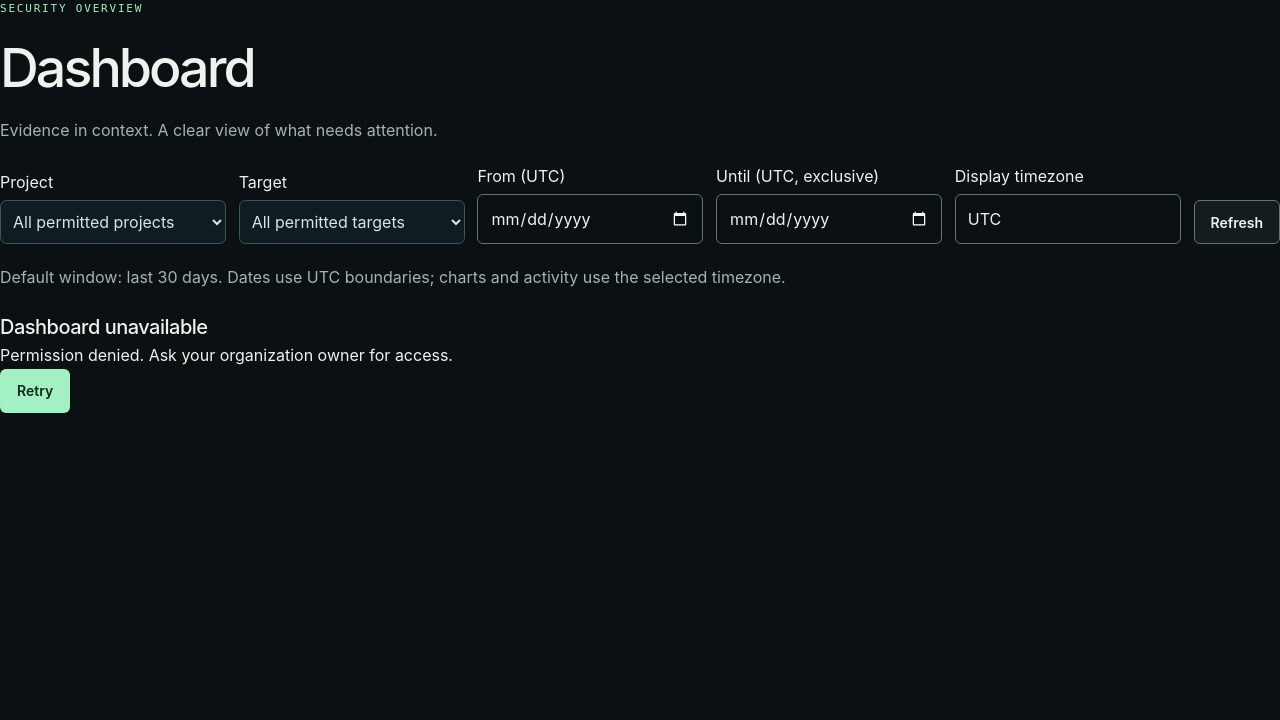
Test case: retries errors and communicates permission denial
Expected: the text "Permission denied. Ask your organization owner for access." is shown, [0,344,453,364]
Click the button "Retry": (35, 391) [0,369,70,413]
(page scrolled)
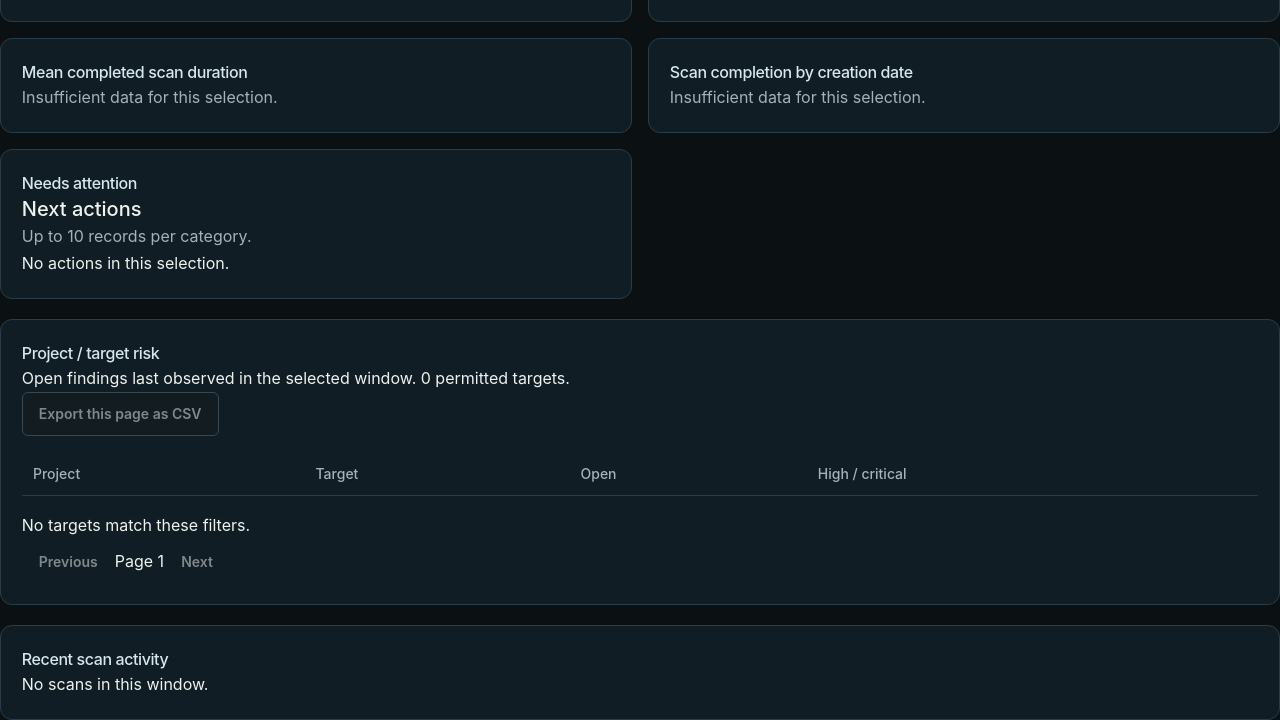
Expected: the text "No scans in this window." is shown, [22,674,208,694]
